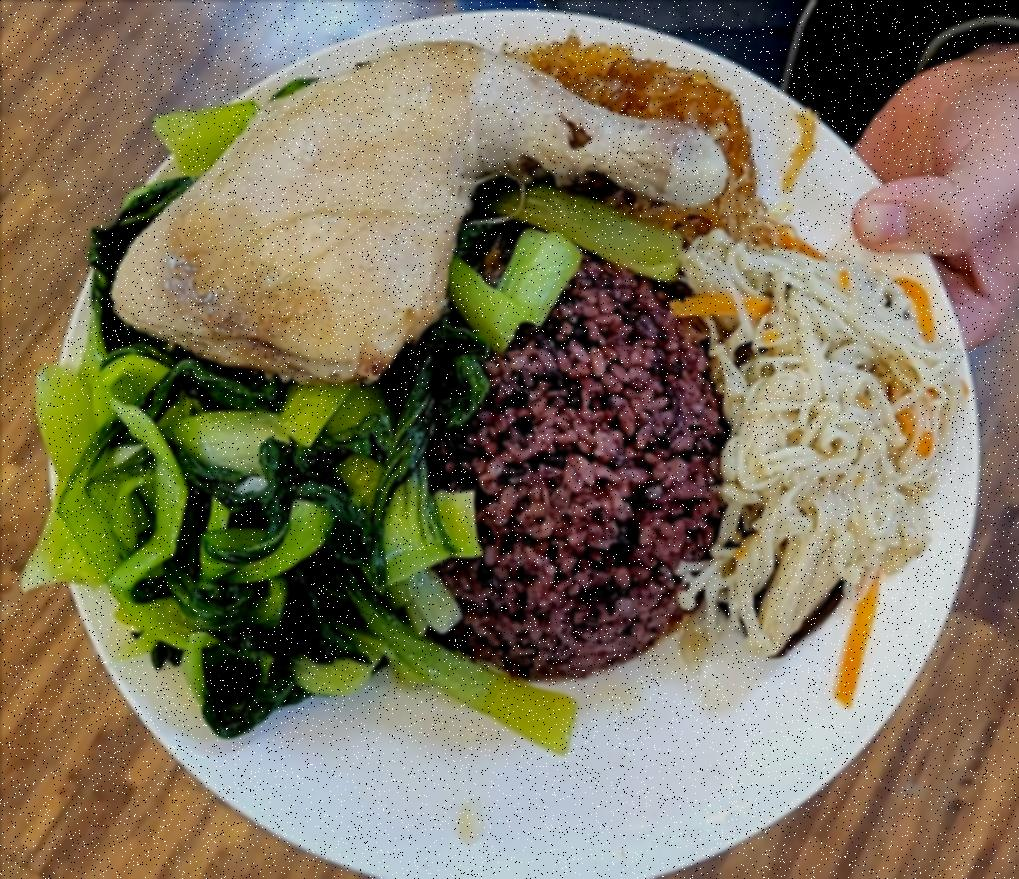big herbal chicken leg: (105, 31, 736, 388)
plate: (35, 6, 986, 879)
purple rice: (428, 258, 712, 678)
side dish: (41, 338, 457, 734), (692, 243, 942, 652), (520, 35, 758, 224)
